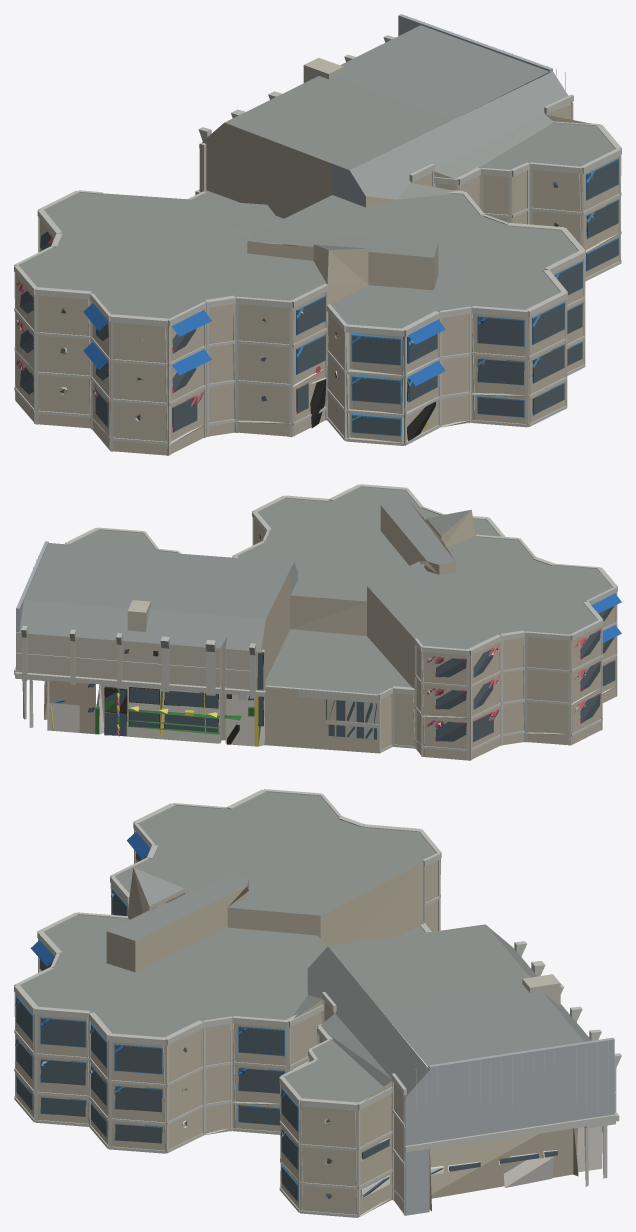
Rendered from jungle-swindenstraat.lod1.glb.
The picture shows the model from 3 angles, top to bottom: view 1: azimuth 30°, elevation 25°; view 2: azimuth 150°, elevation 25°; view 3: azimuth 270°, elevation 25°; orthographic projection. The views are drawn at different scales.
Parts seen in each view (by area): view 1: jungle-swindenstraat; view 2: jungle-swindenstraat; view 3: jungle-swindenstraat.
Part boxes in pixels (x1,y1,x2,y2): jungle-swindenstraat: (14, 14, 621, 455); jungle-swindenstraat: (14, 484, 621, 760); jungle-swindenstraat: (14, 789, 621, 1217).
Bounding box in the file's own units: 58.67 × 15.22 × 50.95.
